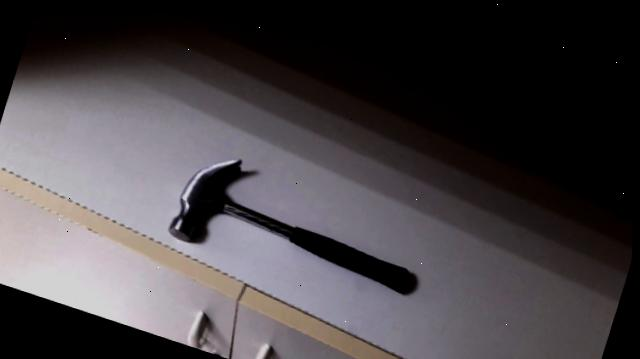hammer: (152, 127, 456, 321)
